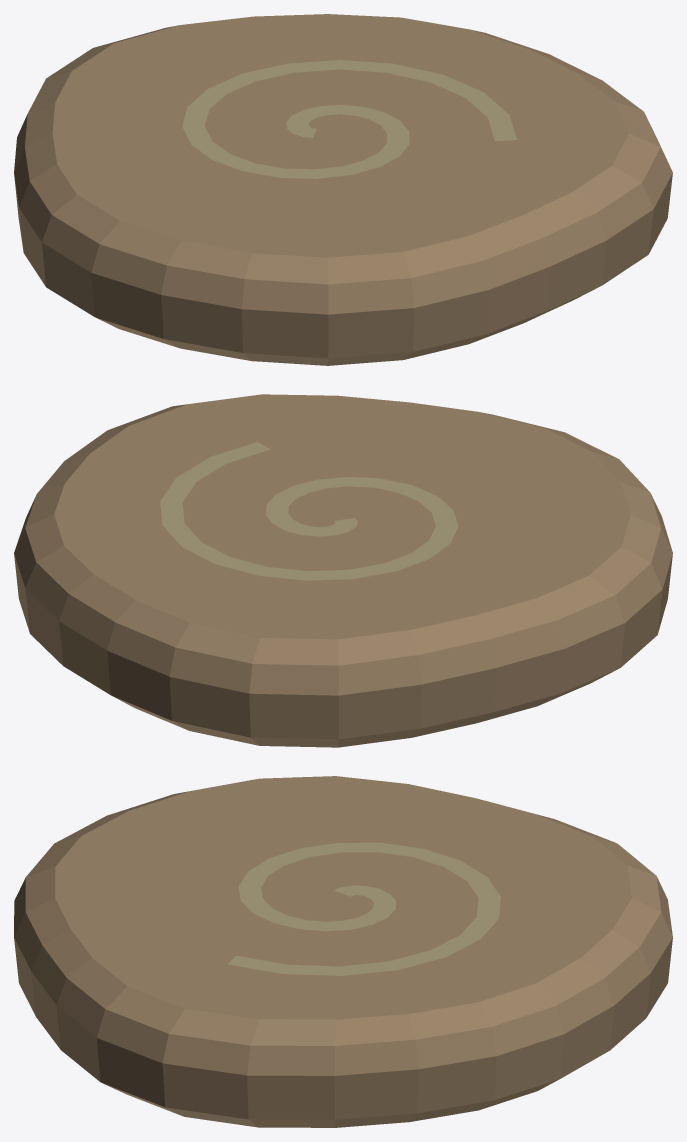
File: steppingStoneD.glb
3 views of the same model, one above another, from view 1: azimuth 30°, elevation 25°; view 2: azimuth 150°, elevation 25°; view 3: azimuth 270°, elevation 25° (orthographic).
Parts seen in each view (by area): view 1: steppingStoneD; view 2: steppingStoneD; view 3: steppingStoneD.
Boxes of the visible parts, x1=… form: steppingStoneD: x1=14, y1=14, x2=672, y2=365; steppingStoneD: x1=14, y1=394, x2=672, y2=747; steppingStoneD: x1=14, y1=776, x2=672, y2=1127.
Bounding box in the file's own units: 1 × 0.18 × 1.
1 material, 1 textured.
